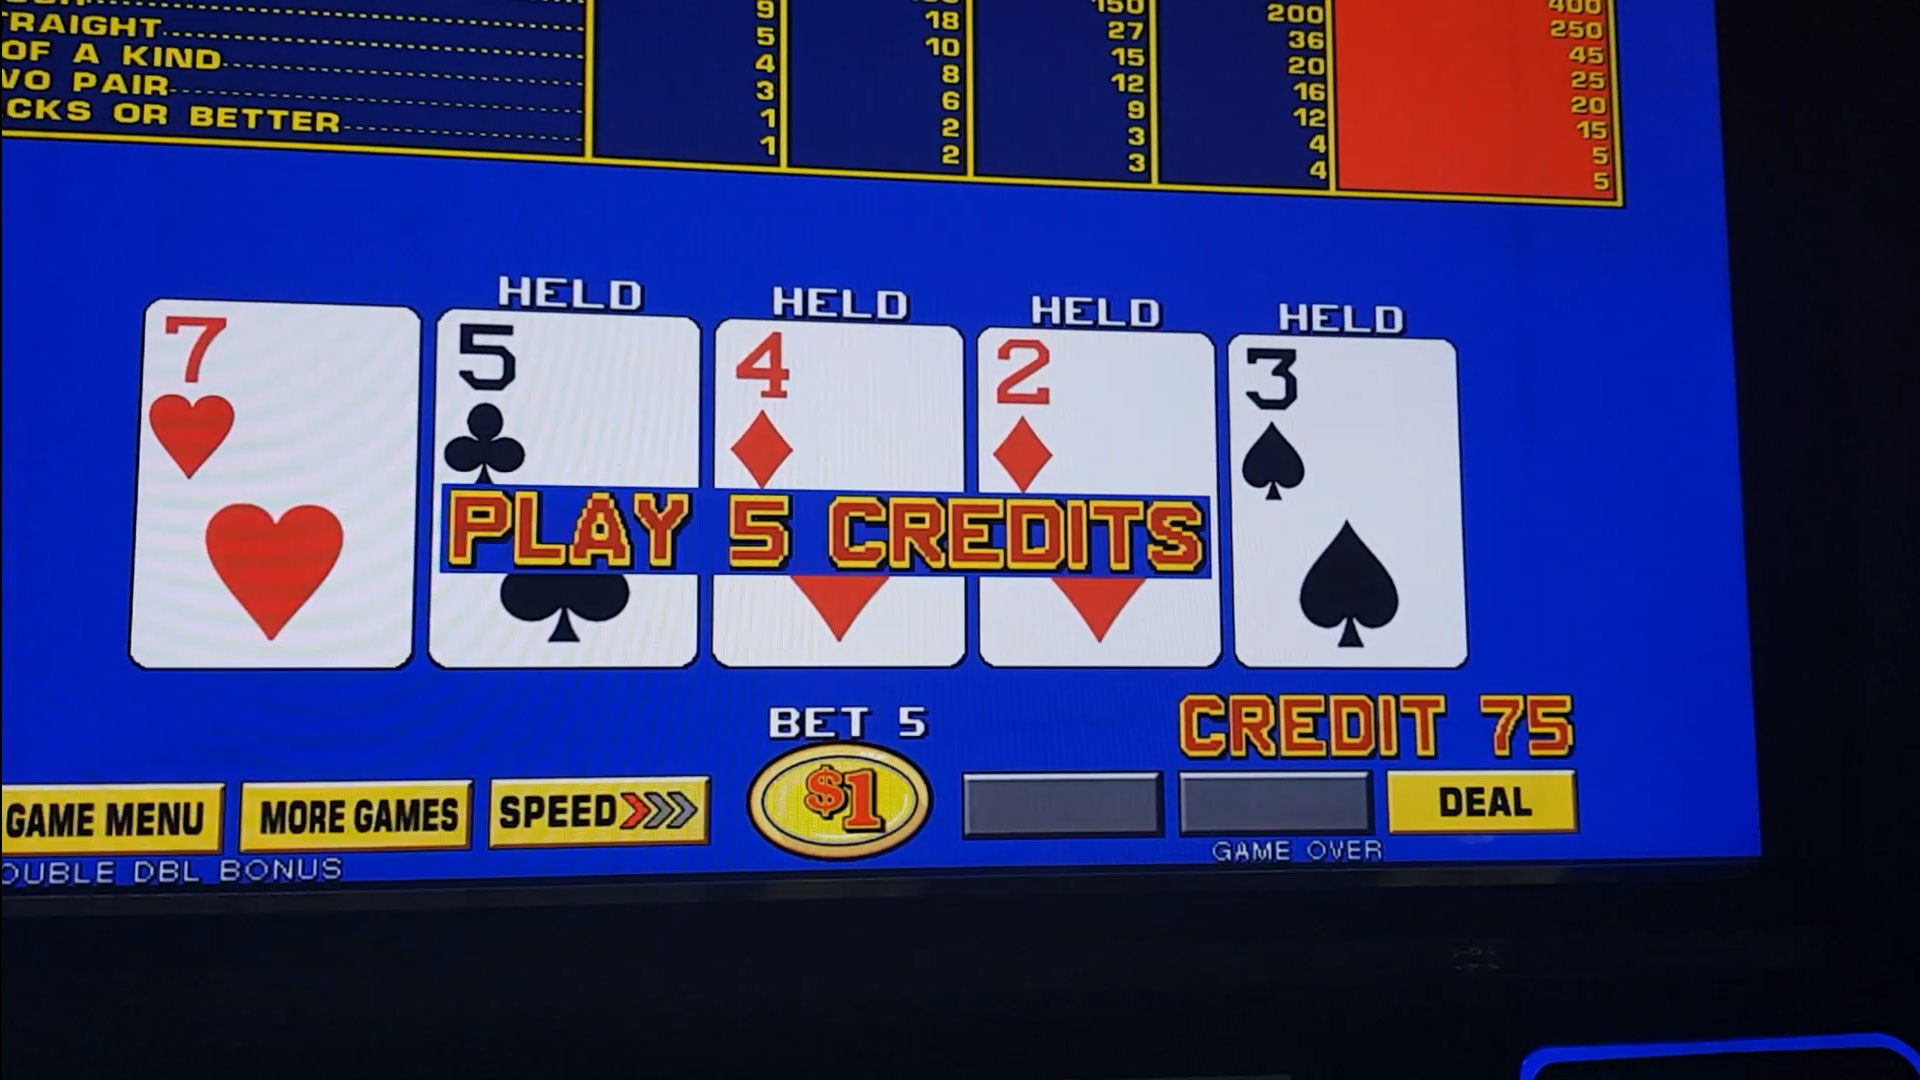C5: (444, 322, 690, 480)
D2: (982, 338, 1213, 489)
D4: (723, 330, 957, 483)
H7: (152, 313, 413, 487)
S3: (1240, 340, 1455, 502)
